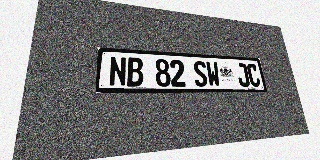2: (170, 59, 186, 87)
8: (155, 59, 171, 87)
B: (127, 57, 143, 87)
C: (246, 64, 261, 87)
J: (235, 63, 250, 87)
N: (109, 56, 126, 86)
S: (193, 61, 208, 87)
W: (205, 61, 221, 87)
